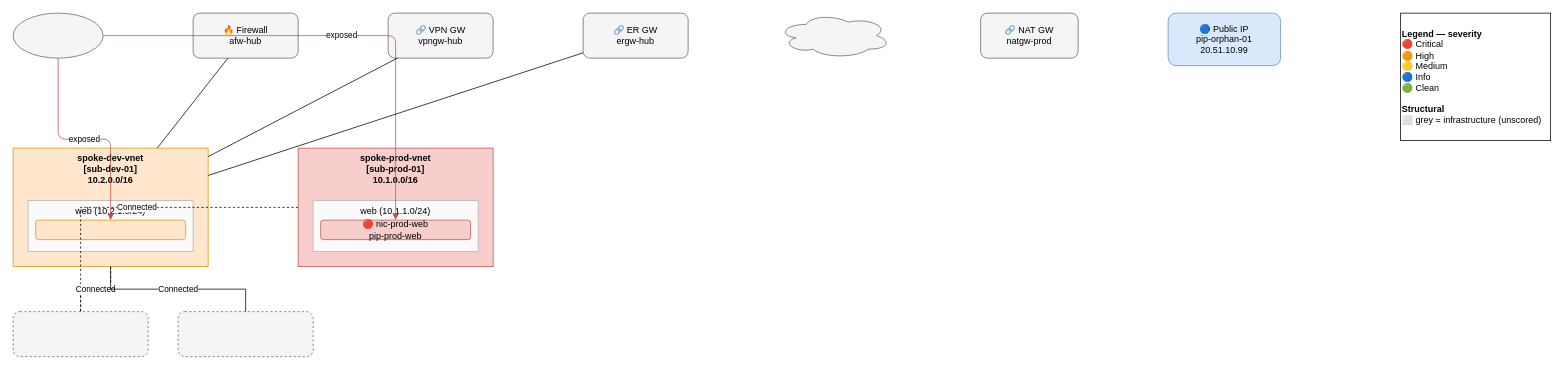
Image size: 1564x370. Some labels were removed from this diagram. The centre of each missing label's shape, as x and y in pixels:
ExpressRoute er-circuit-att: (x=834, y=35)
↗ hub-vnet (outside scope): (x=80, y=334)
↗ remote-shared-vnet (outside scope): (x=245, y=334)
🌐 Internet: (x=57, y=35)
🟠 nic-dev-web pip-dev-web: (x=110, y=229)
